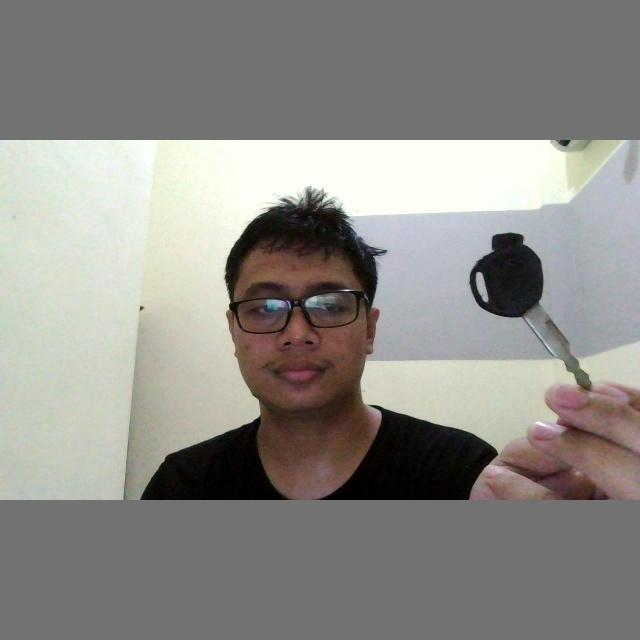Keys: (467, 232, 597, 396)
